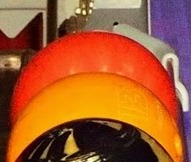ball: (8, 32, 178, 128)
